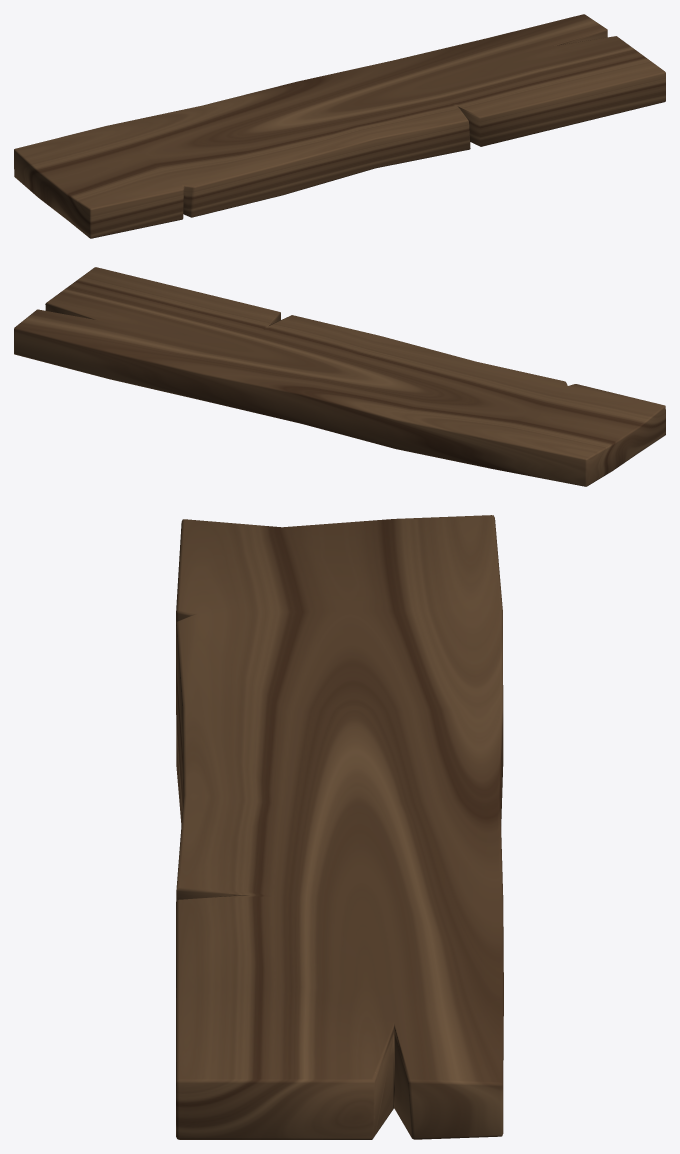
Rendered from Wood Plank 3.fbx.
The picture shows the model from 3 angles, top to bottom: view 1: azimuth 30°, elevation 25°; view 2: azimuth 150°, elevation 25°; view 3: azimuth 270°, elevation 25°; orthographic projection. The views are drawn at different scales.
Parts seen in each view (by area): view 1: Wood Plank 2.003; view 2: Wood Plank 2.003; view 3: Wood Plank 2.003.
Boxes of the visible parts, bbox=[...] form: Wood Plank 2.003: bbox=[14, 14, 665, 238]; Wood Plank 2.003: bbox=[14, 267, 665, 486]; Wood Plank 2.003: bbox=[176, 515, 503, 1139].
Size of the model in its own units: 181 by 10.58 by 44.81.
1 material, 1 textured.
